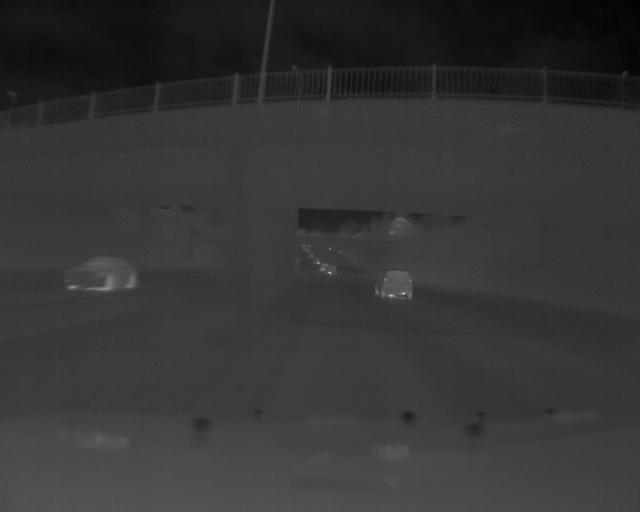car: (61, 248, 138, 298), (373, 267, 416, 307)
